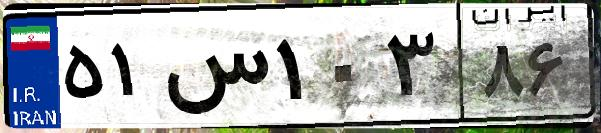0: (330, 28, 385, 110)
1: (270, 28, 330, 110), (110, 28, 158, 98)
3: (385, 28, 445, 110)
5: (57, 26, 110, 100)
6: (525, 38, 570, 115)
8: (475, 38, 525, 113)
س: (158, 20, 270, 120)
